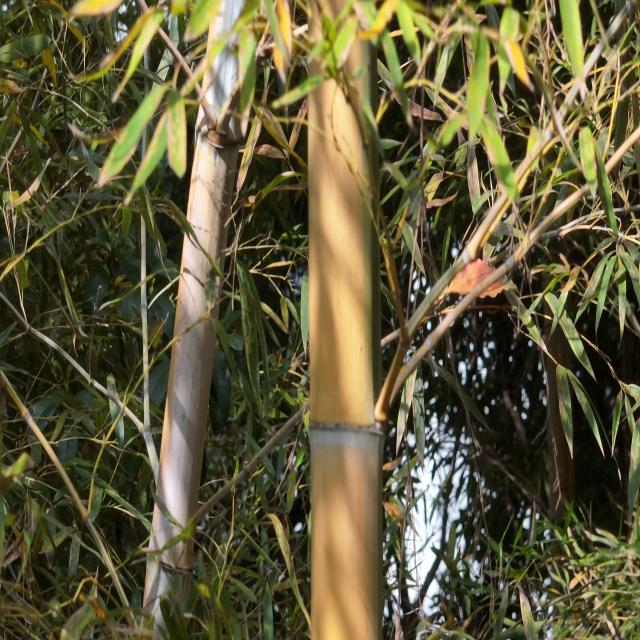Bamboo-shoots: (141, 0, 253, 640)
